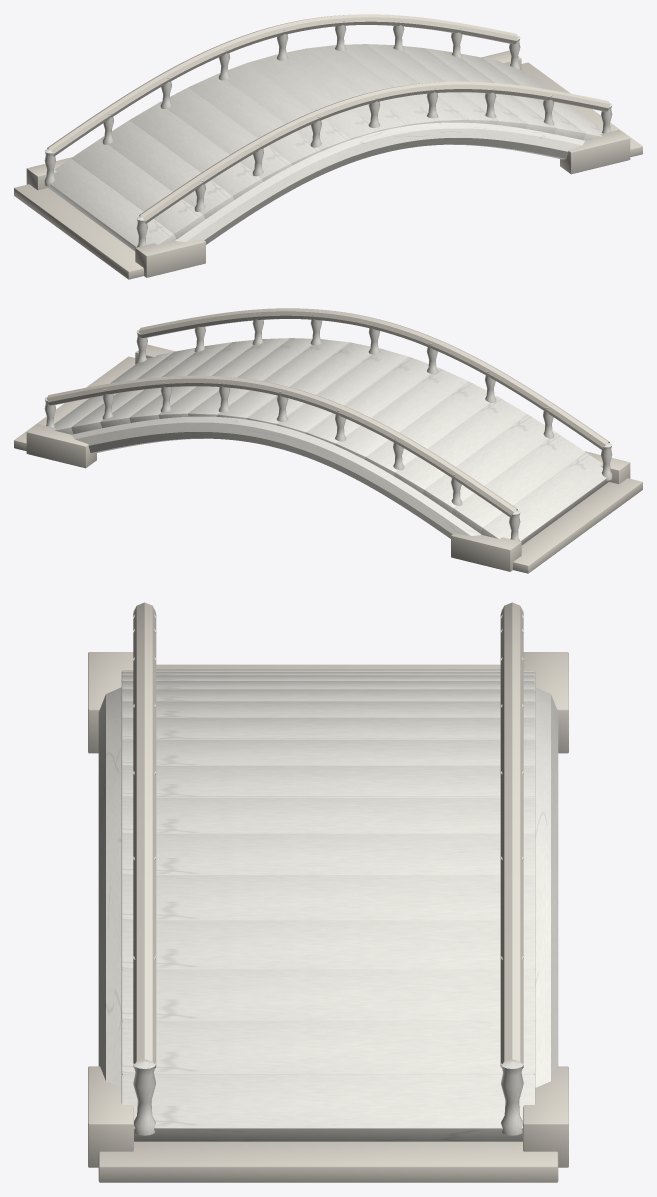
The model's file is th36_bogenbruecke.glb.
The picture shows the model from 3 angles, top to bottom: view 1: azimuth 30°, elevation 25°; view 2: azimuth 150°, elevation 25°; view 3: azimuth 270°, elevation 25°; orthographic projection. The views are drawn at different scales.
Parts seen in each view (by area): view 1: Laibung, Handlauf, Handlauf.001, Cube, Cube.001, Cube.003, Cube.018, Cube.002, Cube.005, Cube.004, Cube.006, Cube.007 (+12 smaller); view 2: Laibung.001, Handlauf.001, Handlauf, Cube, Cube.001, Cube.003, Cube.018, Cube.002, Cube.005, Cube.004, Cube.006, Cube.007 (+12 smaller); view 3: Cube.015, Cube.014, Cube.013, Cube.021, Cube.012, Cube.011, Cube.010, Cube.009, Cube.008, Handlauf, Handlauf.001, Cube.007 (+16 smaller).
Boxes of the visible parts, bbox=[...] form: Laibung: bbox=[175, 122, 585, 244]; Handlauf: bbox=[139, 81, 609, 223]; Handlauf.001: bbox=[47, 14, 517, 156]; Cube: bbox=[47, 158, 176, 251]; Cube.001: bbox=[71, 139, 205, 238]; Cube.003: bbox=[129, 103, 262, 199]; Cube.018: bbox=[14, 184, 143, 279]; Cube.002: bbox=[100, 120, 233, 219]; Cube.005: bbox=[188, 74, 321, 165]; Cube.004: bbox=[159, 87, 292, 181]; Cube.006: bbox=[218, 62, 350, 151]; Cube.007: bbox=[247, 54, 380, 139]; Laibung.001: bbox=[71, 416, 481, 538]; Handlauf.001: bbox=[47, 375, 517, 517]; Handlauf: bbox=[139, 308, 609, 450]; Cube: bbox=[480, 452, 609, 545]; Cube.001: bbox=[451, 433, 585, 532]; Cube.003: bbox=[394, 397, 527, 493]; Cube.018: bbox=[513, 478, 642, 573]; Cube.002: bbox=[423, 414, 556, 513]; Cube.005: bbox=[335, 368, 468, 459]; Cube.004: bbox=[364, 381, 497, 475]; Cube.006: bbox=[306, 356, 438, 445]; Cube.007: bbox=[276, 348, 409, 433]; Cube.015: bbox=[121, 1074, 535, 1141]; Cube.014: bbox=[121, 1021, 535, 1074]; Cube.013: bbox=[121, 969, 535, 1021]; Cube.021: bbox=[98, 1141, 558, 1182]; Cube.012: bbox=[121, 920, 535, 969]; Cube.011: bbox=[121, 875, 535, 920]; Cube.010: bbox=[121, 833, 535, 875]; Cube.009: bbox=[121, 796, 535, 834]; Cube.008: bbox=[121, 765, 535, 798]; Handlauf: bbox=[133, 602, 156, 1068]; Handlauf.001: bbox=[500, 602, 523, 1068]; Cube.007: bbox=[121, 738, 535, 766].
Bounding box in the file's own units: 7.76 × 1.69 × 3.14.
Materials: 2 (1 with a texture image).
